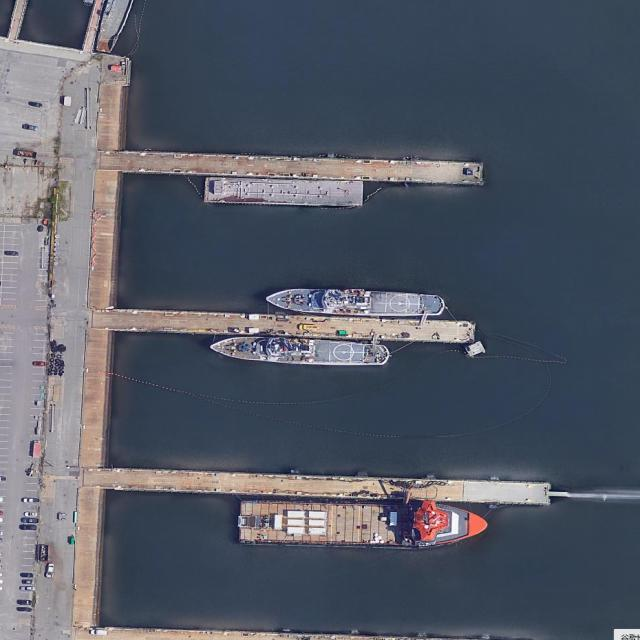Cargo: (236, 496, 489, 550)
Dock: (105, 469, 548, 504), (113, 306, 473, 343), (120, 151, 482, 184)
Landing: (209, 330, 390, 367), (266, 284, 446, 319)
